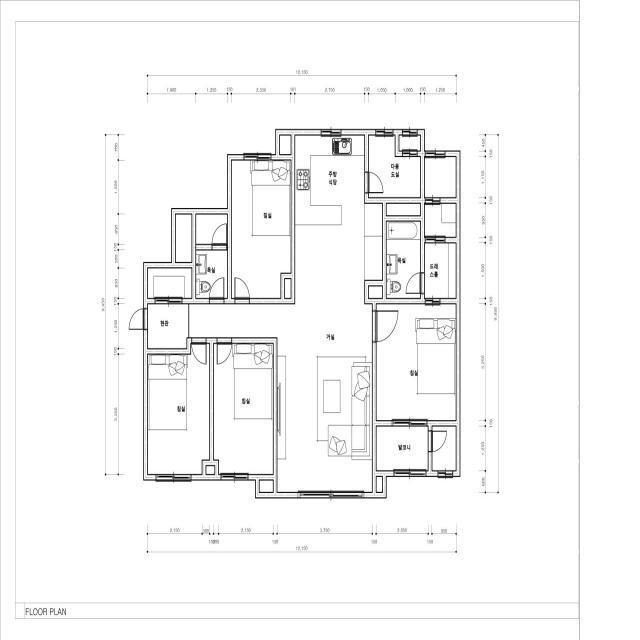space_balconi: (376, 426, 428, 471)
space_bedroom: (376, 304, 456, 420), (232, 160, 291, 298), (148, 344, 209, 474), (214, 344, 273, 474)
space_dressroom: (424, 243, 456, 298)
space_front: (148, 304, 188, 348)
space_kitchen: (295, 136, 382, 304)
space_other: (189, 304, 372, 492), (369, 136, 420, 197), (148, 268, 192, 298), (425, 157, 456, 197), (424, 204, 456, 237), (432, 427, 456, 470), (176, 214, 192, 262), (386, 204, 420, 215), (399, 135, 420, 151), (280, 135, 291, 154), (260, 480, 273, 492), (369, 286, 382, 298), (285, 279, 291, 298), (376, 477, 382, 492), (206, 466, 215, 474)
space_toilet: (386, 221, 420, 298), (196, 215, 227, 298)
